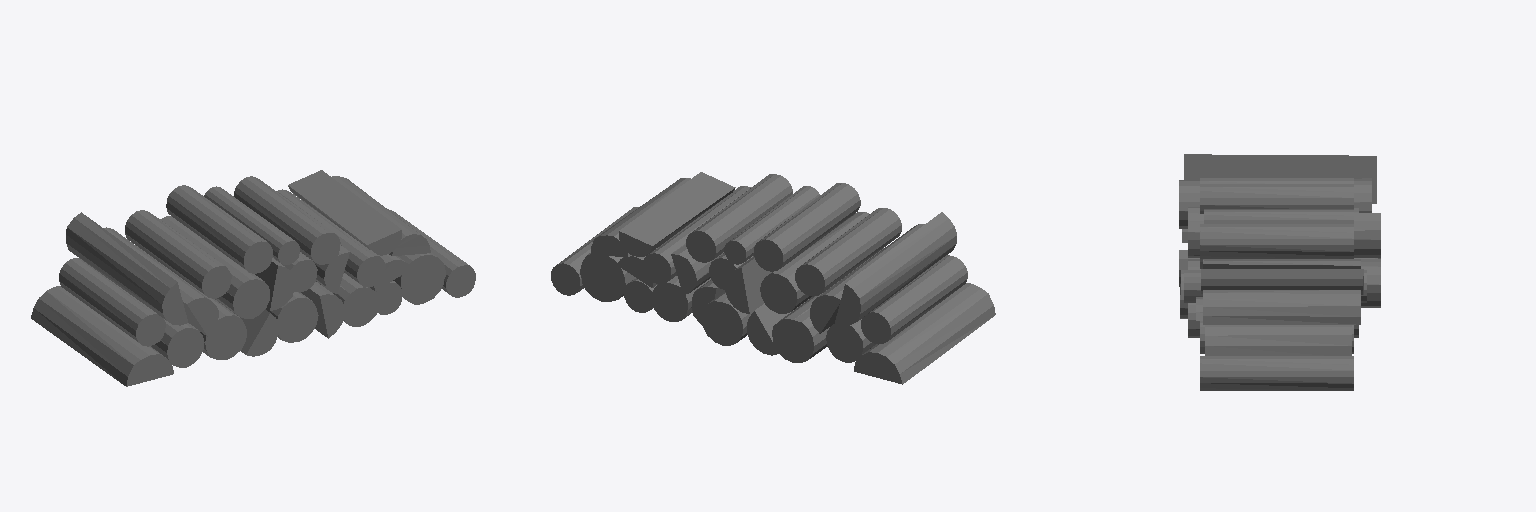
File: LogPile.obj
3 renders of one model, left to right at view 1: azimuth 30°, elevation 25°; view 2: azimuth 150°, elevation 25°; view 3: azimuth 270°, elevation 25°, orthographic.
Visible parts, largest first — view 1: Cylinder004; view 2: Cylinder004; view 3: Cylinder004.
Boxes of the visible parts, x1=… form: Cylinder004: x1=31, y1=170, x2=475, y2=386; Cylinder004: x1=551, y1=172, x2=995, y2=384; Cylinder004: x1=1179, y1=154, x2=1380, y2=390.
Size of the model in its own units: 6.73 by 1.87 by 3.26.